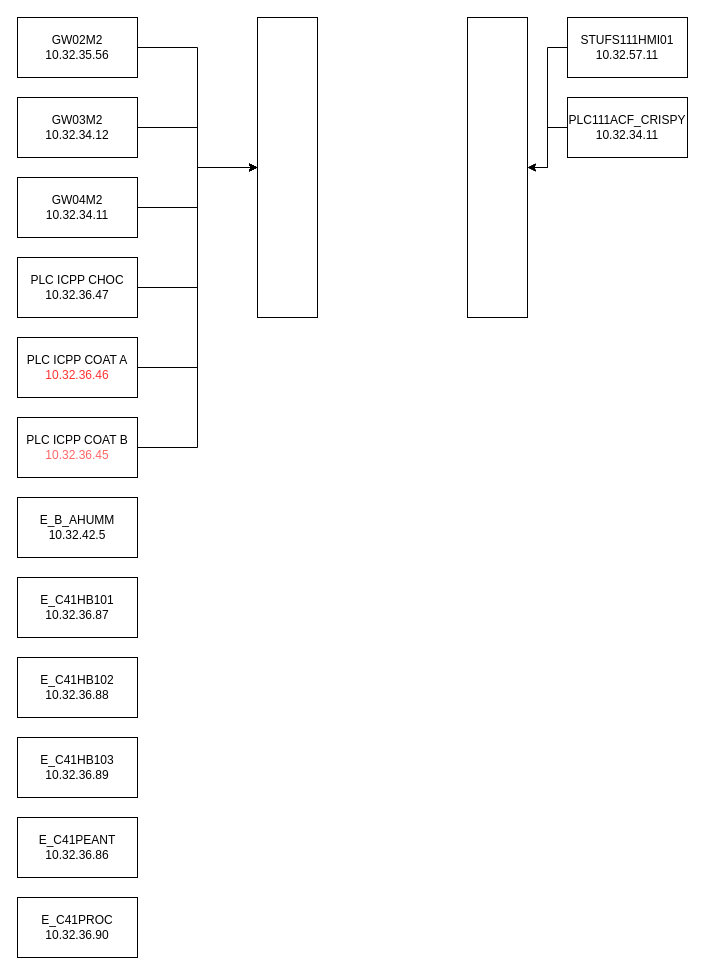
Some shapes in this 705 by 975 pixel diagram are drawn without their labels. The shapes that lost their labels are listed below. From the top down, each one's centre as x and y in pixels, then its label:
the point at 287,167: CISCO OLD LAN
the point at 497,167: CISCO NEW LAN
